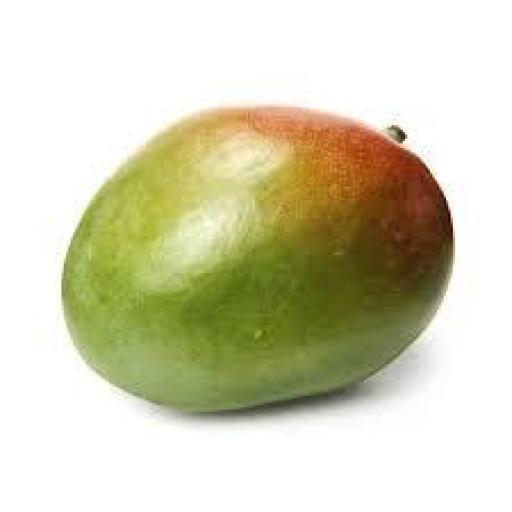mango: (64, 107, 452, 411)
